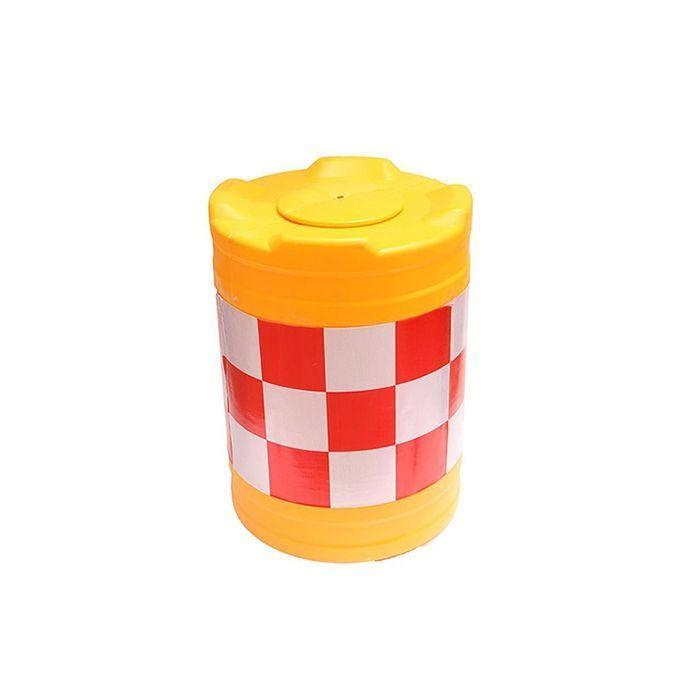sign: (194, 137, 484, 570)
